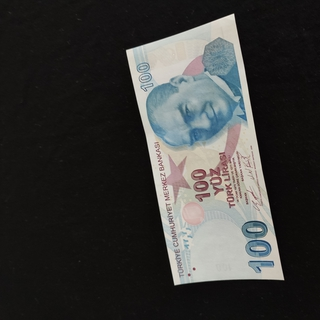100TLFront: (125, 12, 285, 286)
